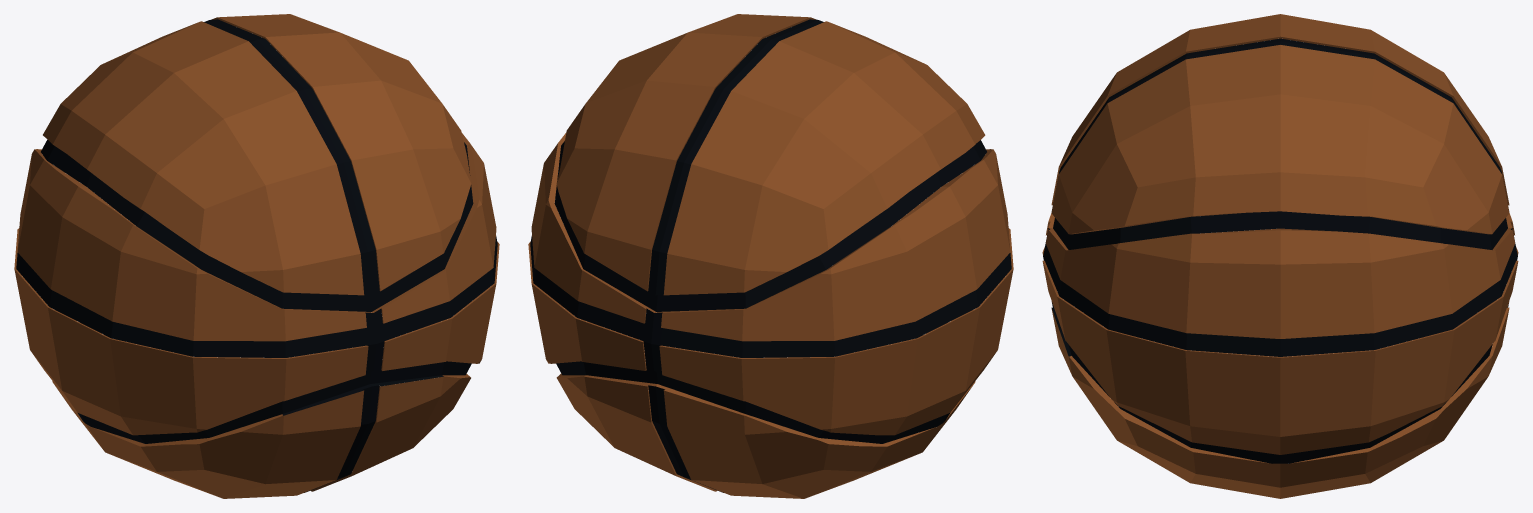
Rendered from basketball.glb.
3 views of the same model, side by side, from view 1: azimuth 30°, elevation 25°; view 2: azimuth 150°, elevation 25°; view 3: azimuth 270°, elevation 25° (orthographic).
Visible parts, largest first — view 1: BasketBall1; view 2: BasketBall1; view 3: BasketBall1.
Boxes of the visible parts, x1=… form: BasketBall1: x1=14, y1=14, x2=499, y2=498; BasketBall1: x1=528, y1=14, x2=1013, y2=498; BasketBall1: x1=1042, y1=14, x2=1518, y2=498.
Size of the model in its own units: 0.4181 by 0.4152 by 0.4152.
